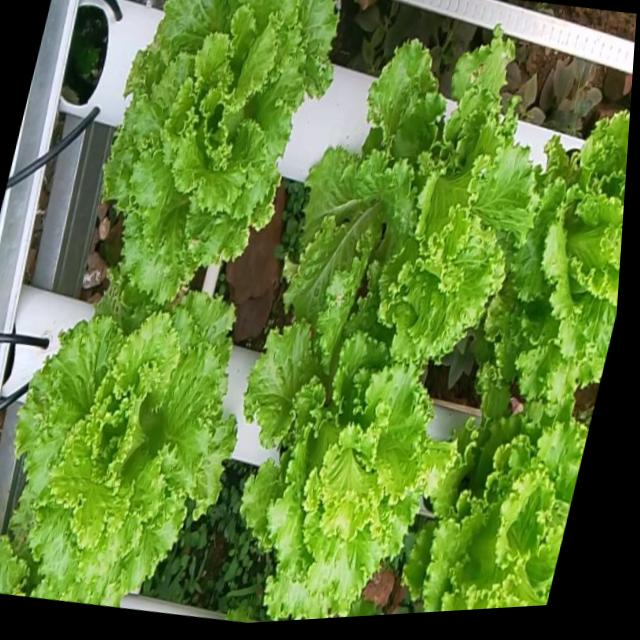Mature: (285, 0, 533, 366), (0, 284, 236, 607), (102, 0, 339, 305), (241, 321, 455, 621), (486, 111, 630, 402), (405, 387, 589, 612)
